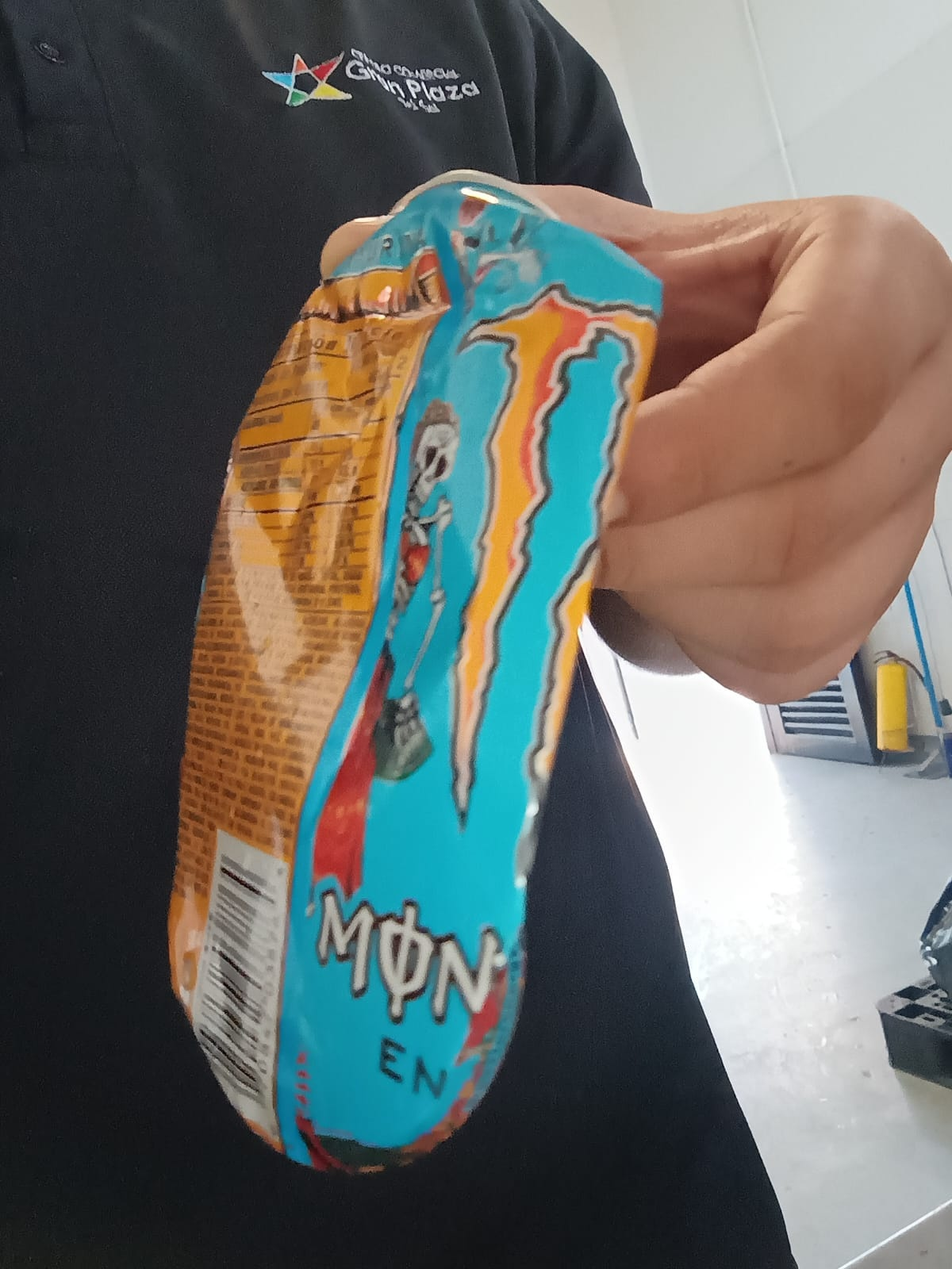Metal: (165, 172, 664, 1177)
